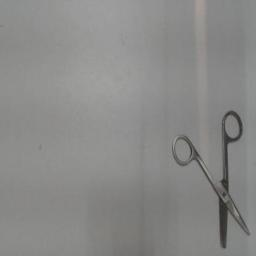Dressing Scissors: (166, 106, 254, 250)
